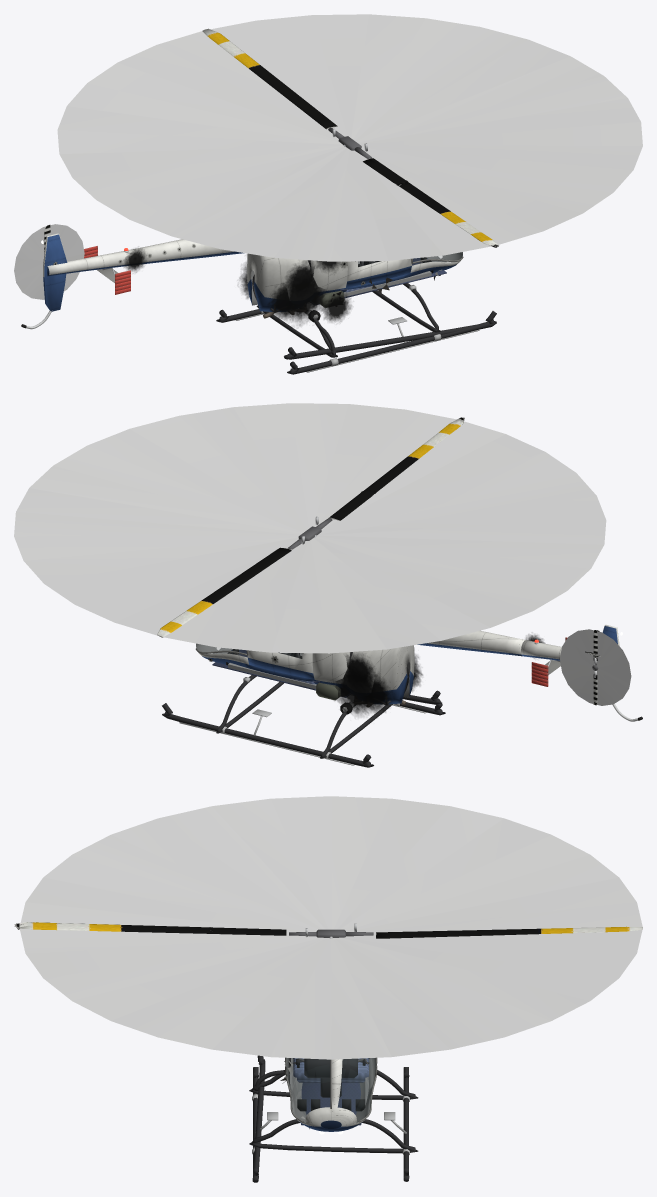
The picture shows the model from 3 angles, top to bottom: view 1: azimuth 30°, elevation 25°; view 2: azimuth 150°, elevation 25°; view 3: azimuth 270°, elevation 25°; orthographic projection. The views are drawn at different scales.
Parts seen in each view (by area): view 1: Rotor_Disc, TailRotor_Disc, Cowl_Belly, Cabin_Skin, Dmg_Soot_Engine_0, Blade_B, Boom_Fwd, Fin, Skid_R, Door_R_Skin, Dmg_Skid_R_Bent, Boom_End (+7 smaller); view 2: Rotor_Disc, TailRotor_Disc, Cowl_Belly, Cabin_Skin, Dmg_Soot_EngineL_0, Blade_B, Skid_L, Boom_Fwd, Door_L_Skin, Blade_A, Dmg_Piece_Blade_A_Outer, Cross_Front (+4 smaller); view 3: Rotor_Disc, Glass_Windshield, Cabin_Skin, Blade_B, Cross_Front, Dmg_Piece_Blade_A_Outer, Blade_A, Cabin_Floor, Panel_Pod, Cross_Rear, Dmg_Skid_R_Bent, Skid_L (+1 smaller).
Part boxes in pixels (left/top/right/bottom): Rotor_Disc: left=57, top=14, right=642, bottom=261; TailRotor_Disc: left=14, top=224, right=84, bottom=299; Cowl_Belly: left=247, top=253, right=310, bottom=311; Cabin_Skin: left=310, top=252, right=462, bottom=295; Dmg_Soot_Engine_0: left=275, top=269, right=330, bottom=326; Blade_B: left=202, top=28, right=337, bottom=129; Boom_Fwd: left=137, top=239, right=244, bottom=264; Fin: left=43, top=233, right=67, bottom=311; Skid_R: left=287, top=319, right=496, bottom=374; Door_R_Skin: left=346, top=258, right=411, bottom=287; Dmg_Skid_R_Bent: left=284, top=311, right=496, bottom=359; Boom_End: left=47, top=248, right=140, bottom=276; Rotor_Disc: left=14, top=403, right=606, bottom=653; TailRotor_Disc: left=560, top=629, right=631, bottom=705; Cowl_Belly: left=350, top=645, right=414, bottom=704; Cabin_Skin: left=196, top=643, right=350, bottom=687; Dmg_Soot_EngineL_0: left=333, top=660, right=384, bottom=716; Blade_B: left=157, top=547, right=291, bottom=637; Skid_L: left=162, top=703, right=373, bottom=767; Boom_Fwd: left=417, top=630, right=525, bottom=656; Door_L_Skin: left=247, top=650, right=314, bottom=679; Blade_A: left=329, top=419, right=463, bottom=520; Dmg_Piece_Blade_A_Outer: left=364, top=417, right=464, bottom=493; Cross_Front: left=216, top=675, right=283, bottom=733; Rotor_Disc: left=20, top=796, right=642, bottom=1059; Glass_Windshield: left=286, top=1058, right=375, bottom=1122; Cabin_Skin: left=290, top=1058, right=372, bottom=1131; Blade_B: left=376, top=926, right=642, bottom=938; Cross_Front: left=249, top=1119, right=418, bottom=1154; Dmg_Piece_Blade_A_Outer: left=14, top=922, right=213, bottom=933; Blade_A: left=19, top=922, right=286, bottom=934; Cabin_Floor: left=301, top=1082, right=361, bottom=1125; Panel_Pod: left=304, top=1058, right=357, bottom=1078; Cross_Rear: left=249, top=1070, right=418, bottom=1101; Dmg_Skid_R_Bent: left=252, top=1055, right=265, bottom=1182; Skid_L: left=403, top=1067, right=409, bottom=1181.
Size of what is drawn, in the model's own units: 8.79 by 2.75 by 7.74.
38 materials, 13 textured.
